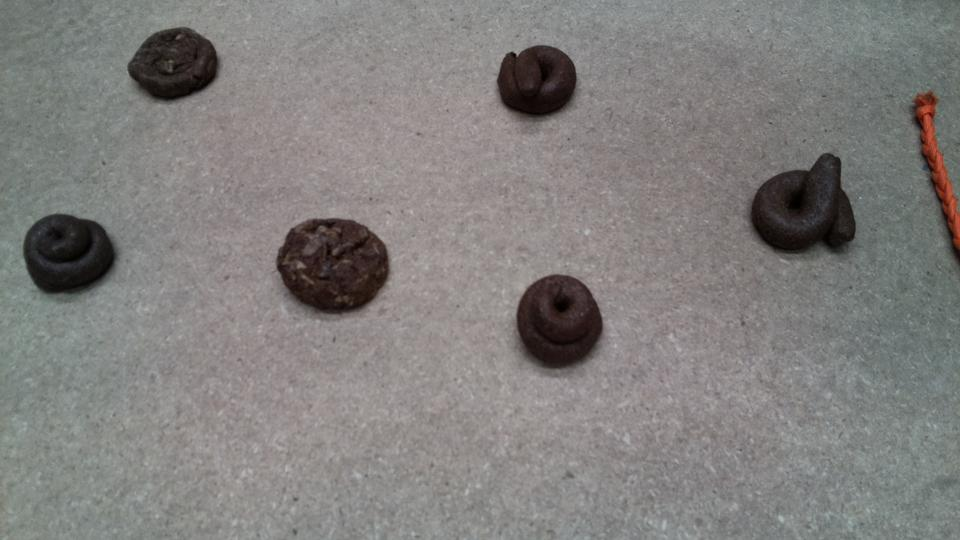poop: (273, 211, 394, 316), (749, 148, 858, 257), (513, 269, 607, 372), (20, 211, 119, 296), (125, 23, 222, 105), (495, 43, 579, 121)
rope: (908, 85, 960, 236)
